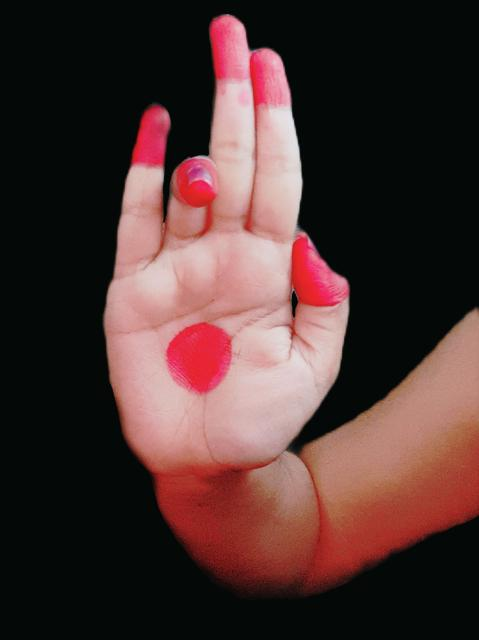tripataka: (105, 17, 350, 471)
